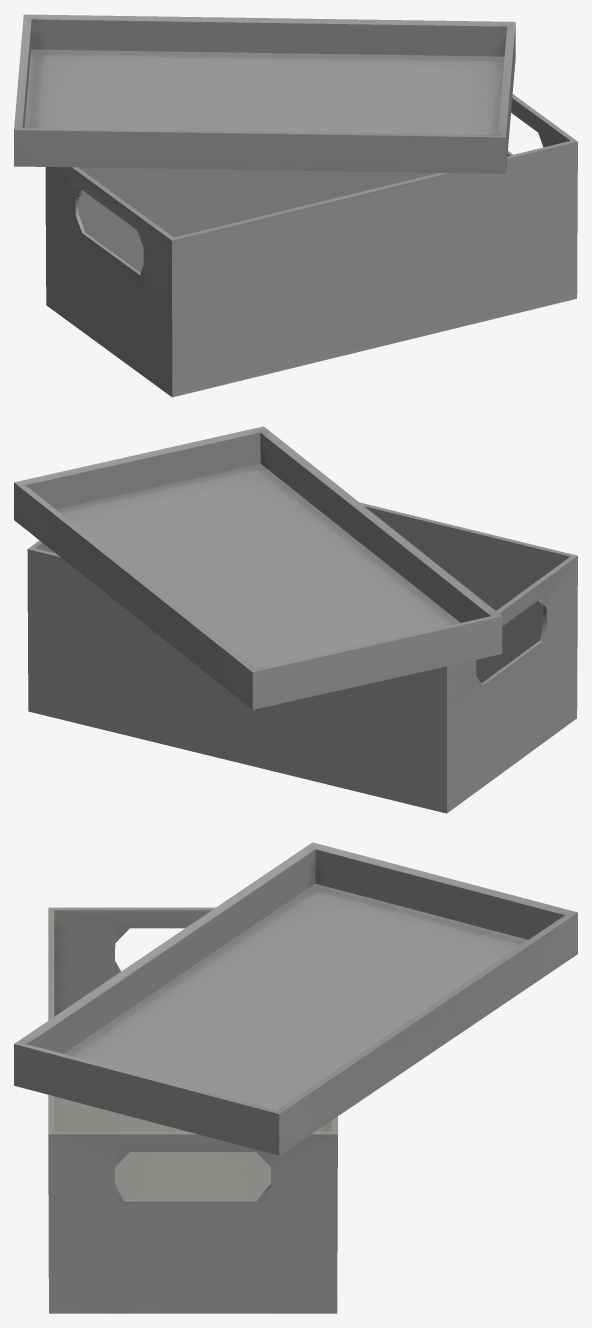
Rendered from Pfb_PaperBox__11.fbx.
3 renders of one model, top to bottom at view 1: azimuth 30°, elevation 25°; view 2: azimuth 150°, elevation 25°; view 3: azimuth 270°, elevation 25°, orthographic. The views are drawn at different scales.
Parts seen in each view (by area): view 1: Mat_PaperBox_01_01; view 2: Mat_PaperBox_01_01; view 3: Mat_PaperBox_01_01.
Boxes of the visible parts, left/top/right/bottom form: Mat_PaperBox_01_01: left=14, top=14, right=577, bottom=397; Mat_PaperBox_01_01: left=14, top=426, right=577, bottom=813; Mat_PaperBox_01_01: left=14, top=842, right=577, bottom=1313.
Size of the model in its own units: 1.53 by 0.5829 by 1.35.
Materials: 1 (1 with a texture image).
